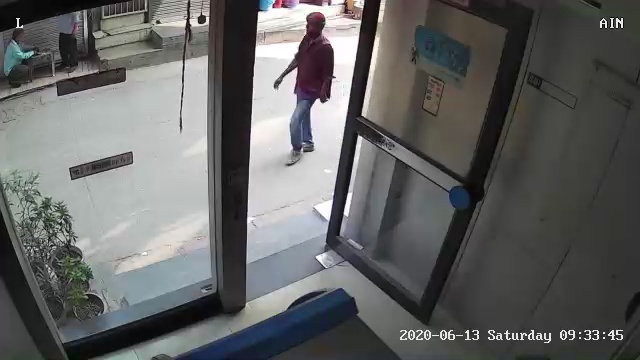open: (191, 7, 538, 318)
